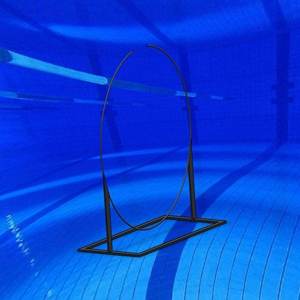circle: (76, 43, 229, 258)
